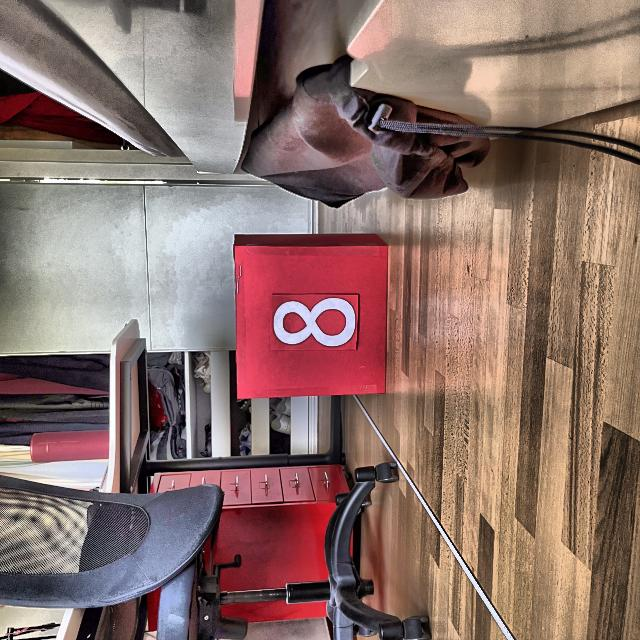eight: (273, 297, 356, 348)
red box: (234, 233, 389, 399)
